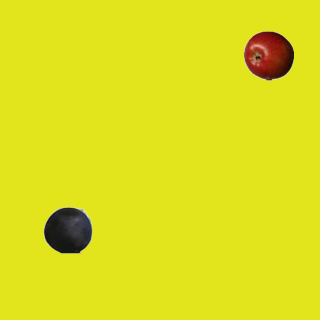Apple Braeburn: (243, 30, 293, 80)
Grape Blue: (42, 204, 92, 254)
